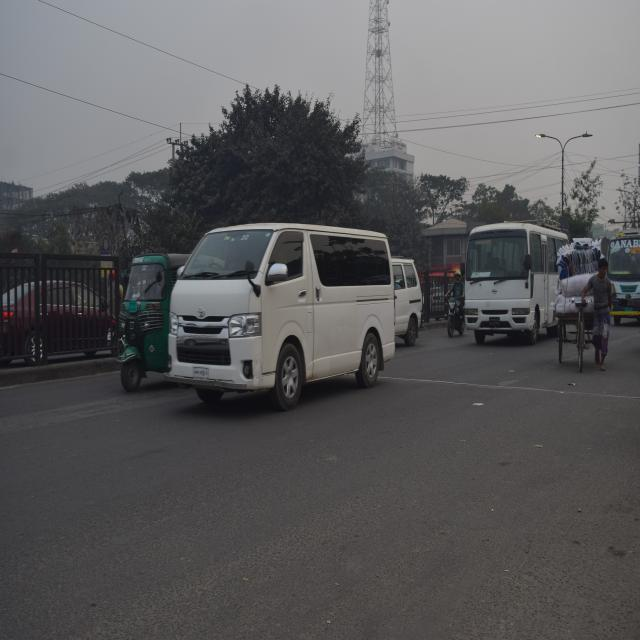bus: (465, 220, 568, 342), (606, 231, 640, 318)
car: (391, 260, 424, 351)
microbus: (175, 224, 396, 394)
motorbike: (444, 288, 464, 343)
